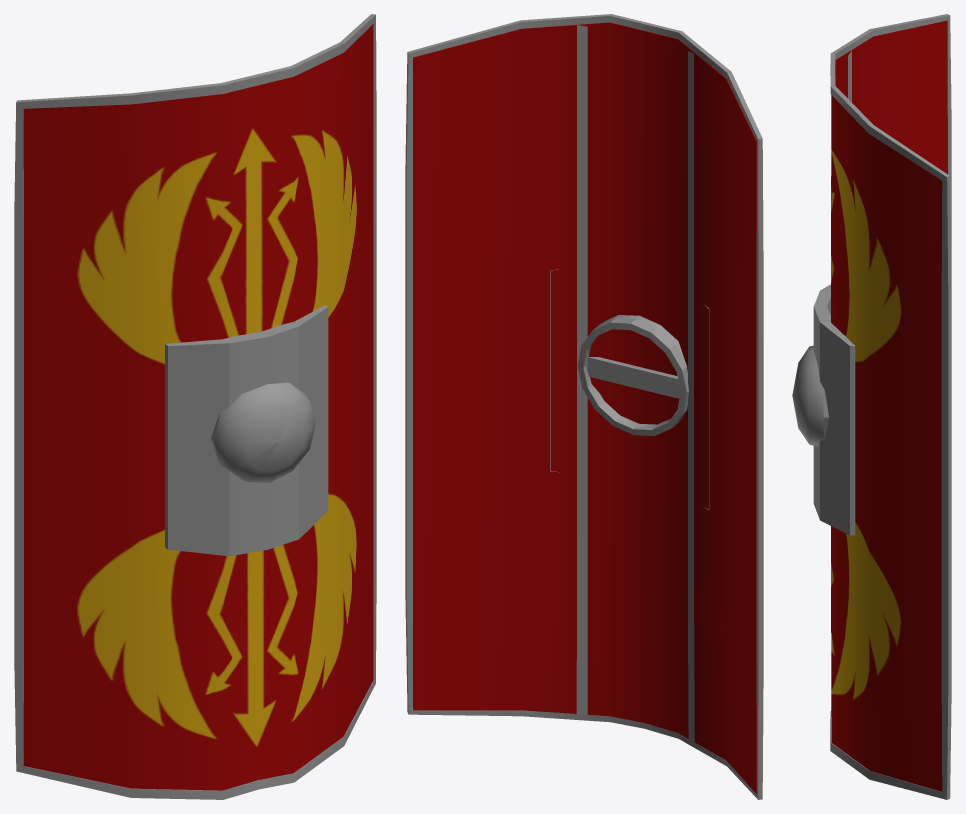
File: SM_roman_shield_01.fbx
3 renders of one model, left to right at view 1: azimuth 30°, elevation 25°; view 2: azimuth 150°, elevation 25°; view 3: azimuth 270°, elevation 25°, orthographic. The views are drawn at different scales.
Parts seen in each view (by area): view 1: roman_shield_01; view 2: roman_shield_01; view 3: roman_shield_01.
Boxes of the visible parts, x1=… form: roman_shield_01: x1=14, y1=14, x2=376, y2=799; roman_shield_01: x1=405, y1=14, x2=763, y2=799; roman_shield_01: x1=792, y1=14, x2=951, y2=799.
Size of the model in its own units: 67.61 by 127 by 27.66.
